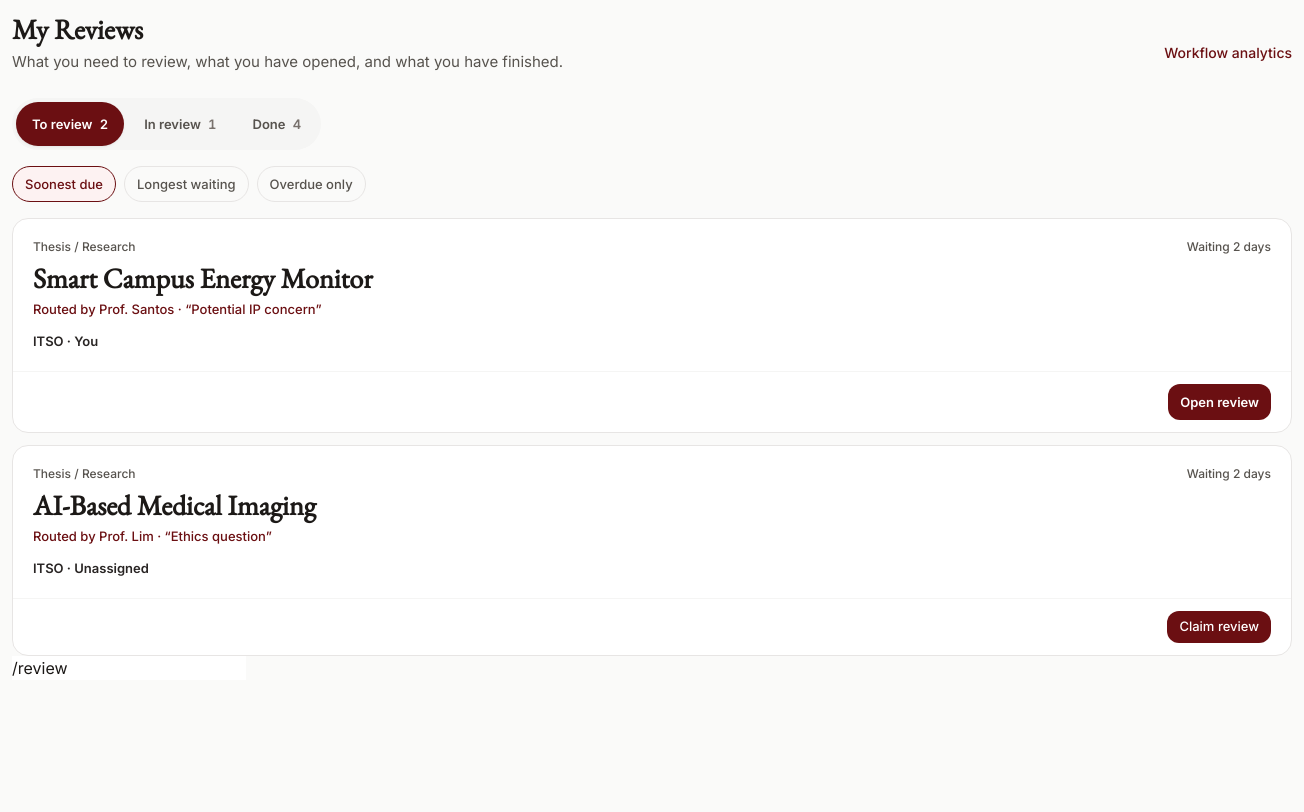
MyReviewsPage › reports a refused claim on its row and announces nothing
Click the button with aria-label "Claim review: AI-Based Medical Imaging" at {"x": 1219, "y": 627}, box left=1167, top=611, right=1271, bottom=642
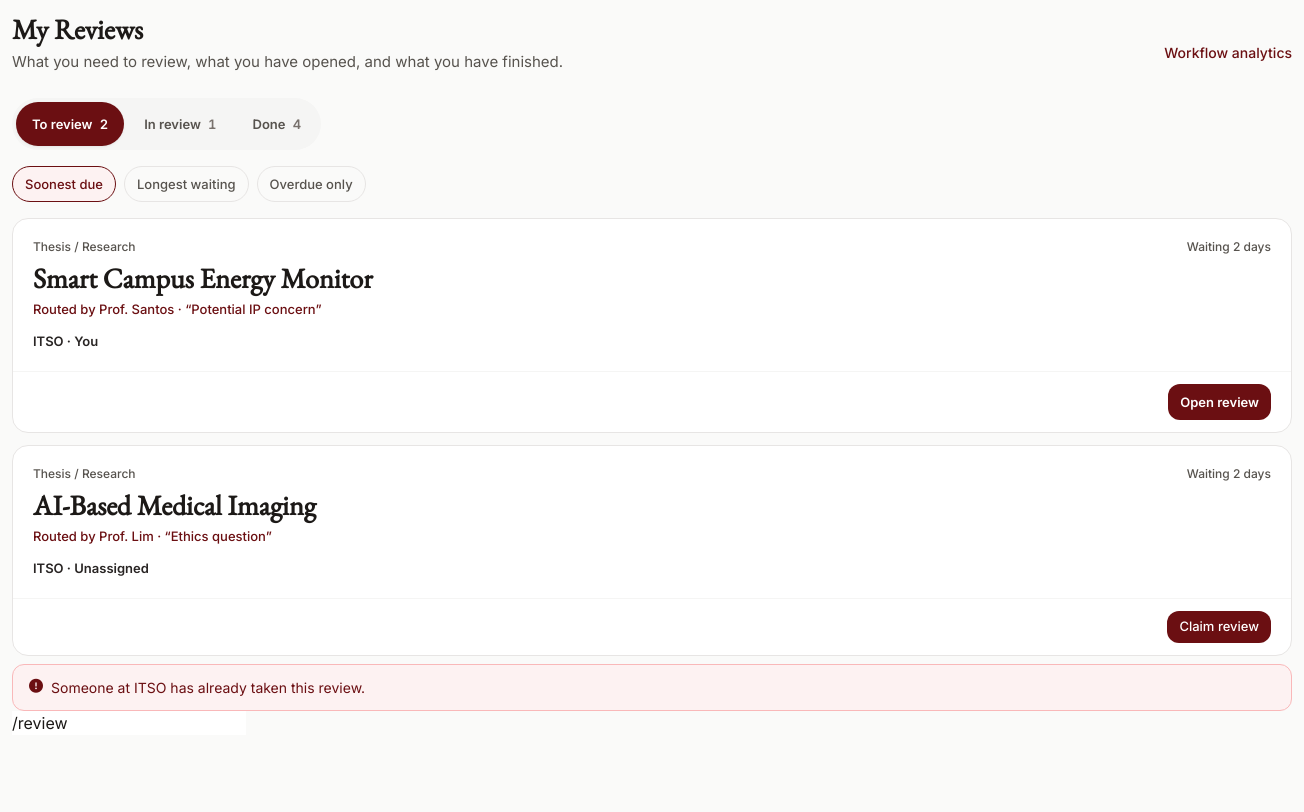
Check: the message shows "already taken this review", box left=51, top=678, right=365, bottom=696
